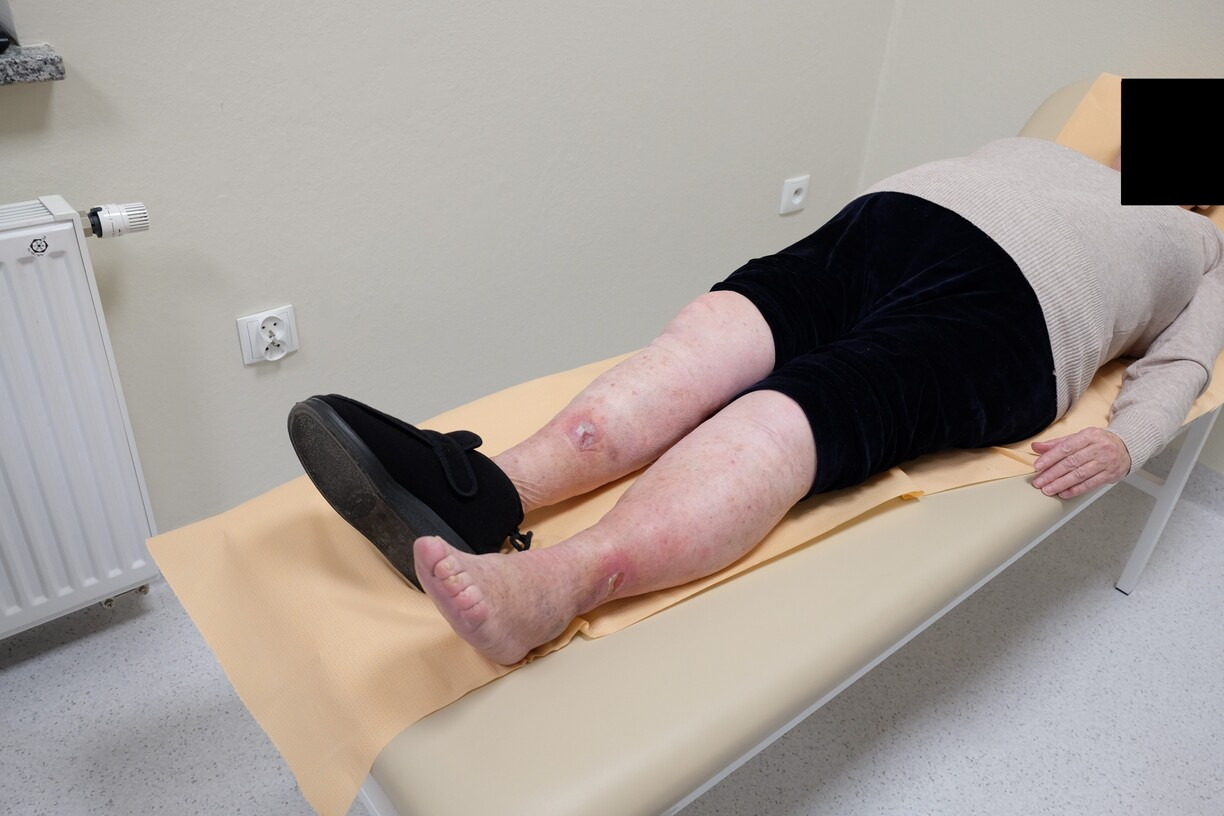wound: (596, 567, 631, 605), (572, 420, 599, 454)
